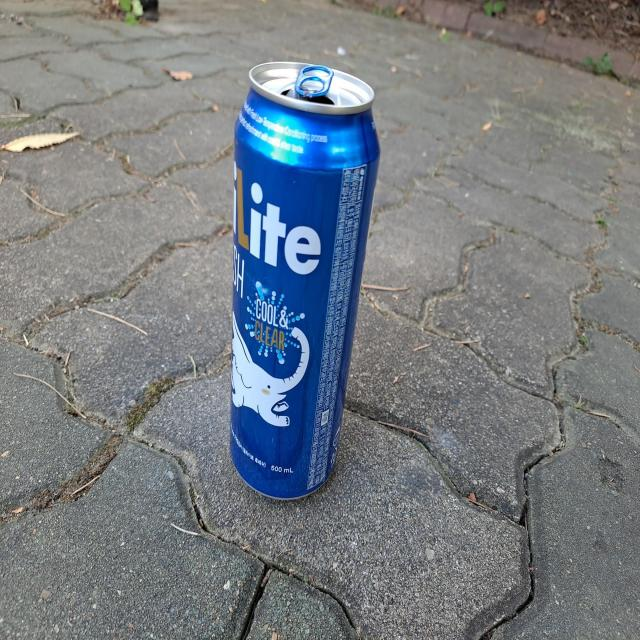can: (230, 61, 380, 499)
